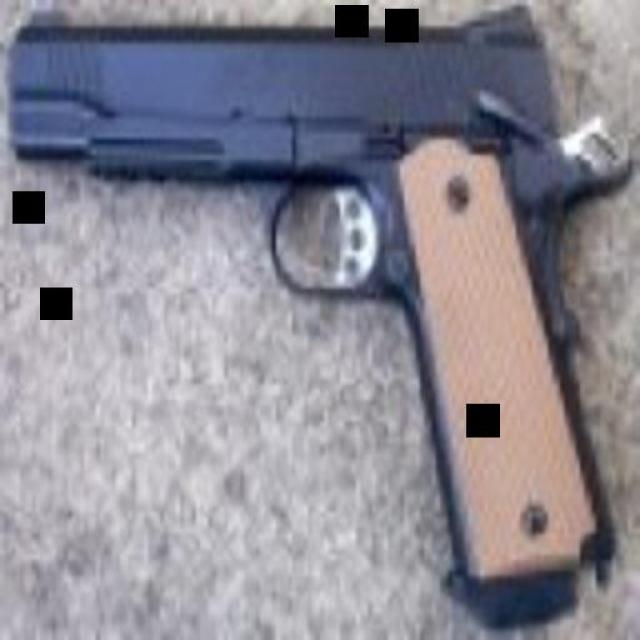gun: (10, 20, 614, 606)
